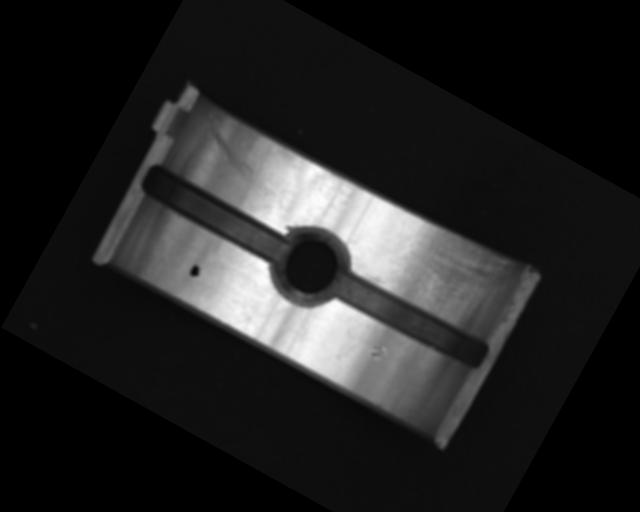blot: (187, 261, 204, 280)
bruise: (366, 340, 390, 365)
gap: (328, 261, 496, 377), (135, 160, 293, 268)
hole: (258, 214, 361, 317)
nick: (182, 110, 304, 212)
scratch: (366, 202, 519, 341)
